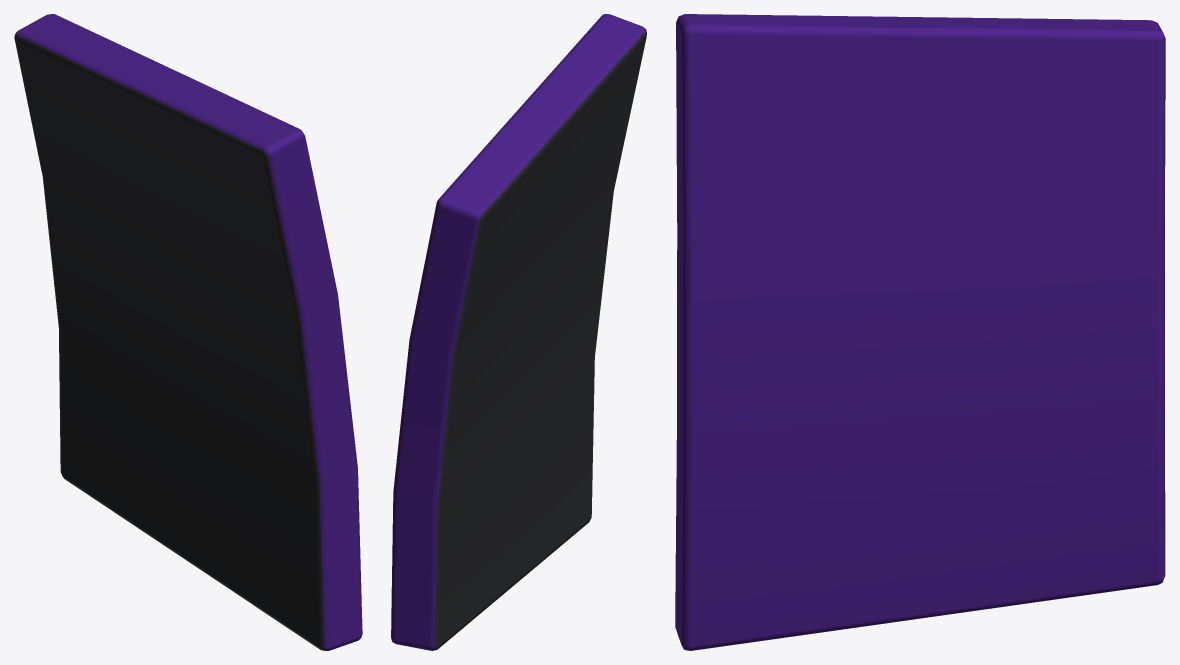
File: charge_port.glb
3 views of the same model, side by side, from view 1: azimuth 30°, elevation 25°; view 2: azimuth 150°, elevation 25°; view 3: azimuth 270°, elevation 25° (orthographic). The views are drawn at different scales.
Parts seen in each view (by area): view 1: charge_port; view 2: charge_port; view 3: charge_port.
Part boxes in pixels (x1=…): charge_port: x1=14, y1=14, x2=362, y2=650; charge_port: x1=391, y1=14, x2=646, y2=650; charge_port: x1=675, y1=14, x2=1165, y2=650.
Bounding box in the file's own units: 0.0619 × 0.2181 × 0.1629.
